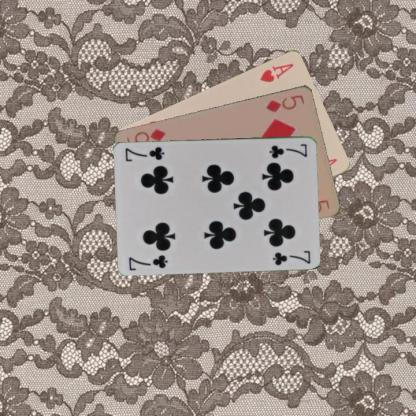5d: (264, 92, 306, 114)
7c: (127, 252, 170, 271), (267, 141, 308, 159)
Ah: (257, 60, 295, 84)
